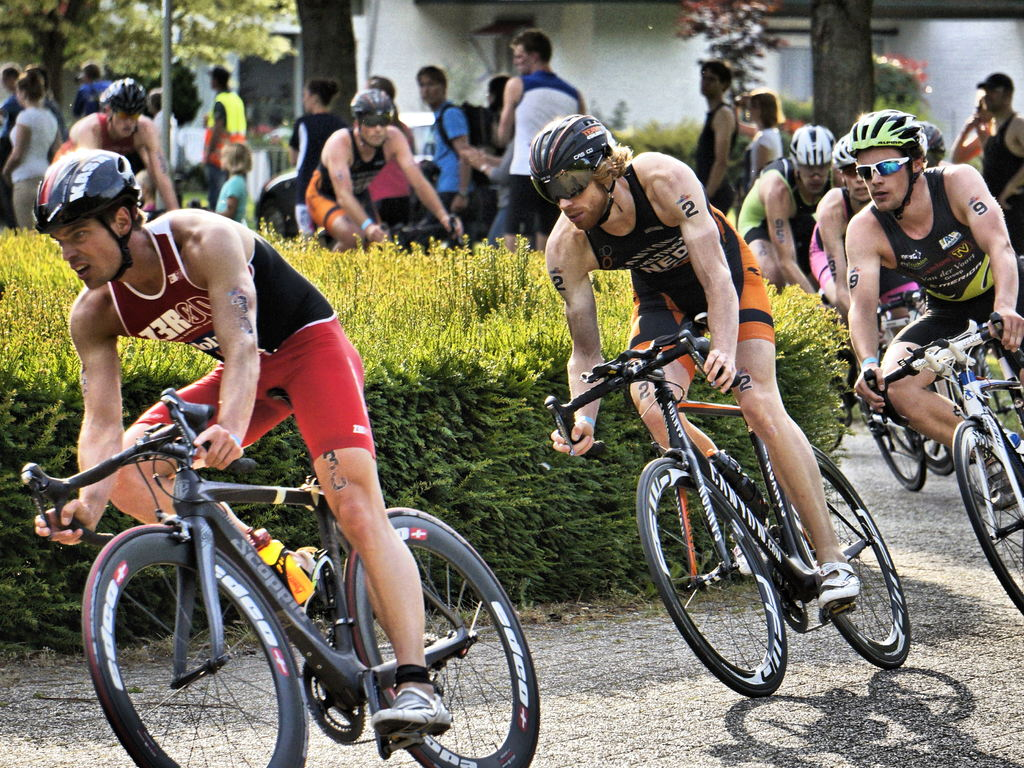Bike_toward: (18, 388, 544, 758), (538, 329, 924, 696)
